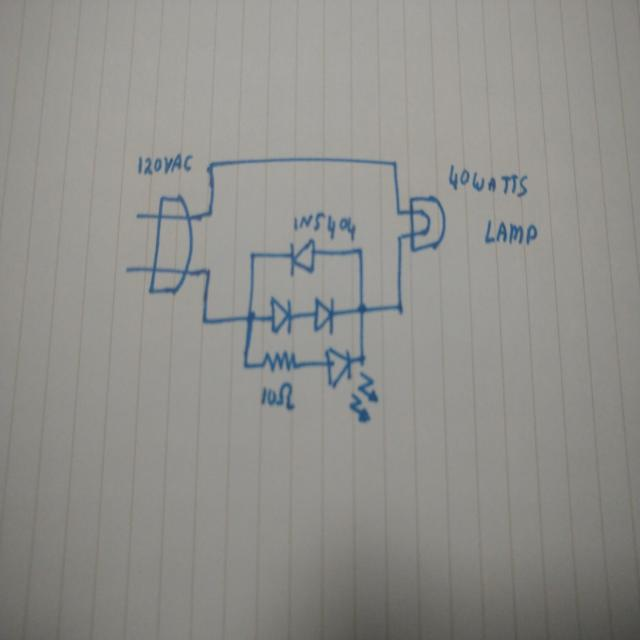diode: (322, 343, 380, 424), (287, 236, 318, 279), (268, 294, 296, 335), (310, 292, 337, 334)
junction: (353, 300, 371, 320), (392, 298, 408, 318), (242, 309, 257, 326), (204, 155, 218, 173), (354, 243, 368, 258), (201, 263, 213, 279), (204, 205, 215, 222), (389, 156, 402, 170), (198, 313, 210, 328), (240, 358, 252, 372), (248, 248, 259, 262), (396, 233, 404, 244), (395, 206, 402, 216)
resistor: (260, 347, 300, 375)
terminal: (120, 264, 134, 276), (131, 210, 143, 221)
text: (445, 160, 531, 202), (291, 209, 358, 241), (481, 216, 539, 251), (135, 150, 194, 178), (258, 378, 298, 412)
